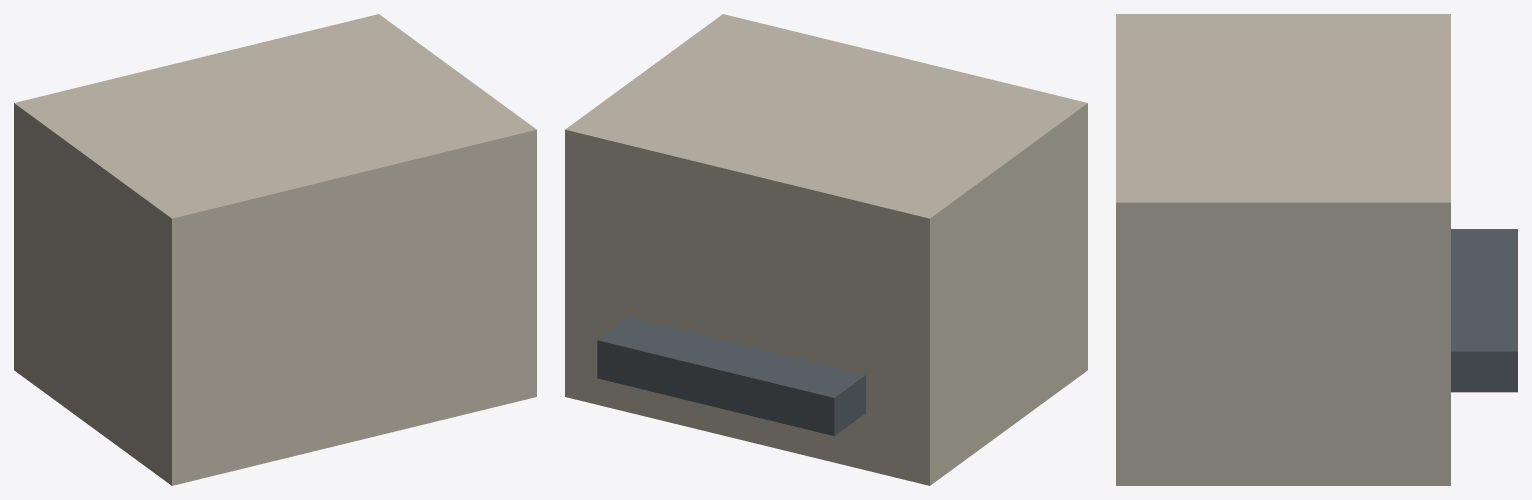
The model's file is printer.glb.
3 views of the same model, side by side, from view 1: azimuth 30°, elevation 25°; view 2: azimuth 150°, elevation 25°; view 3: azimuth 270°, elevation 25° (orthographic). The views are drawn at different scales.
Parts seen in each view (by area): view 1: body; view 2: body; view 3: body.
Boxes of the visible parts, x1,y1,x2,y2 form: body: (14,14,536,485); body: (565,14,1087,485); body: (1116,14,1517,485).
Bounding box in the file's own units: 0.4 × 0.28 × 0.36.
